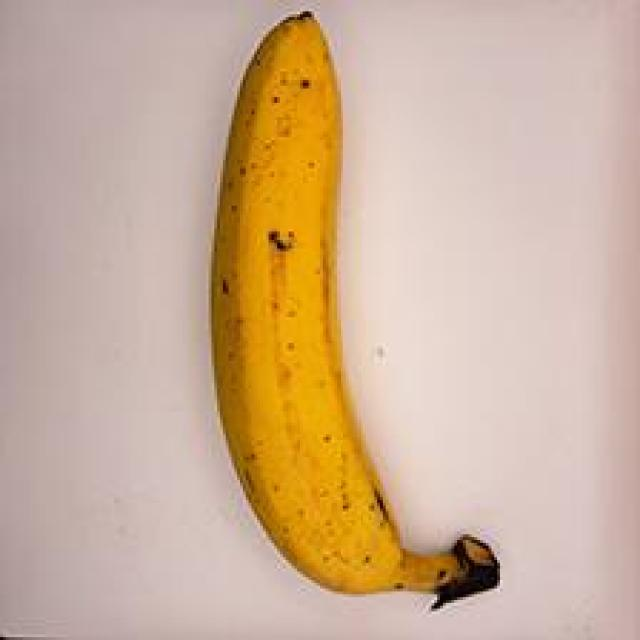Overripe: (164, 0, 516, 615)
